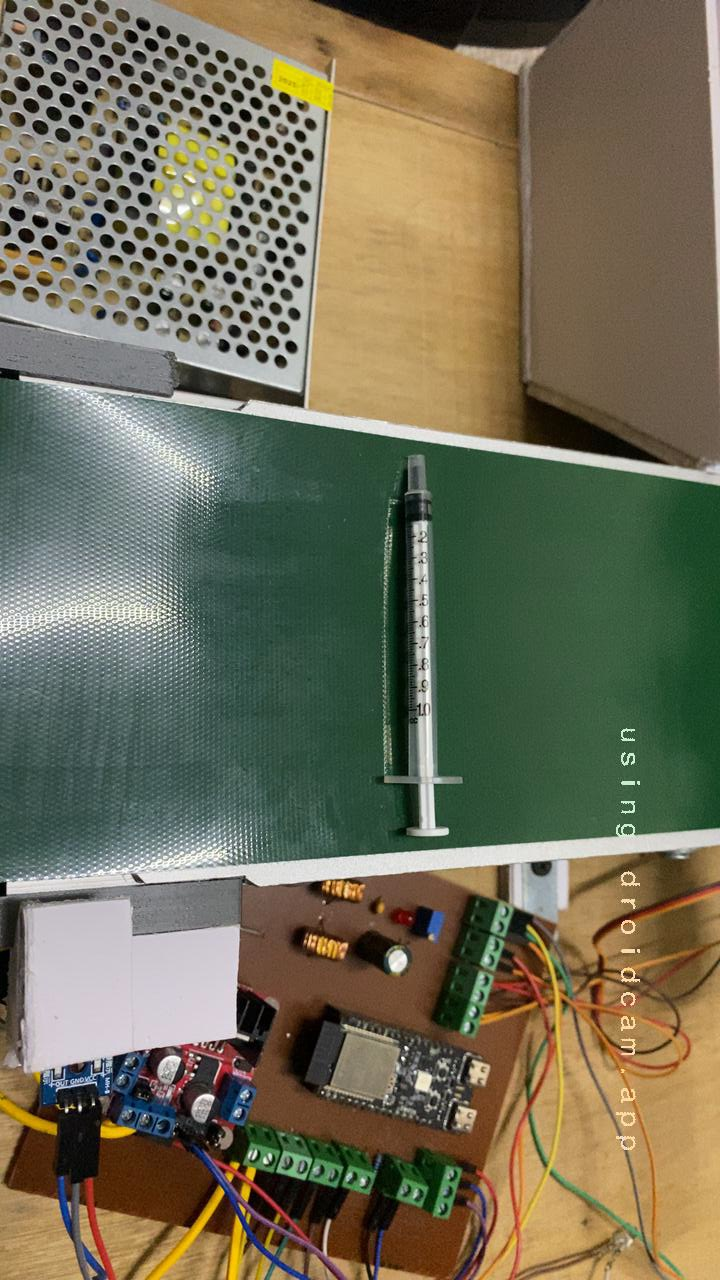syringe: (334, 464, 483, 855)
